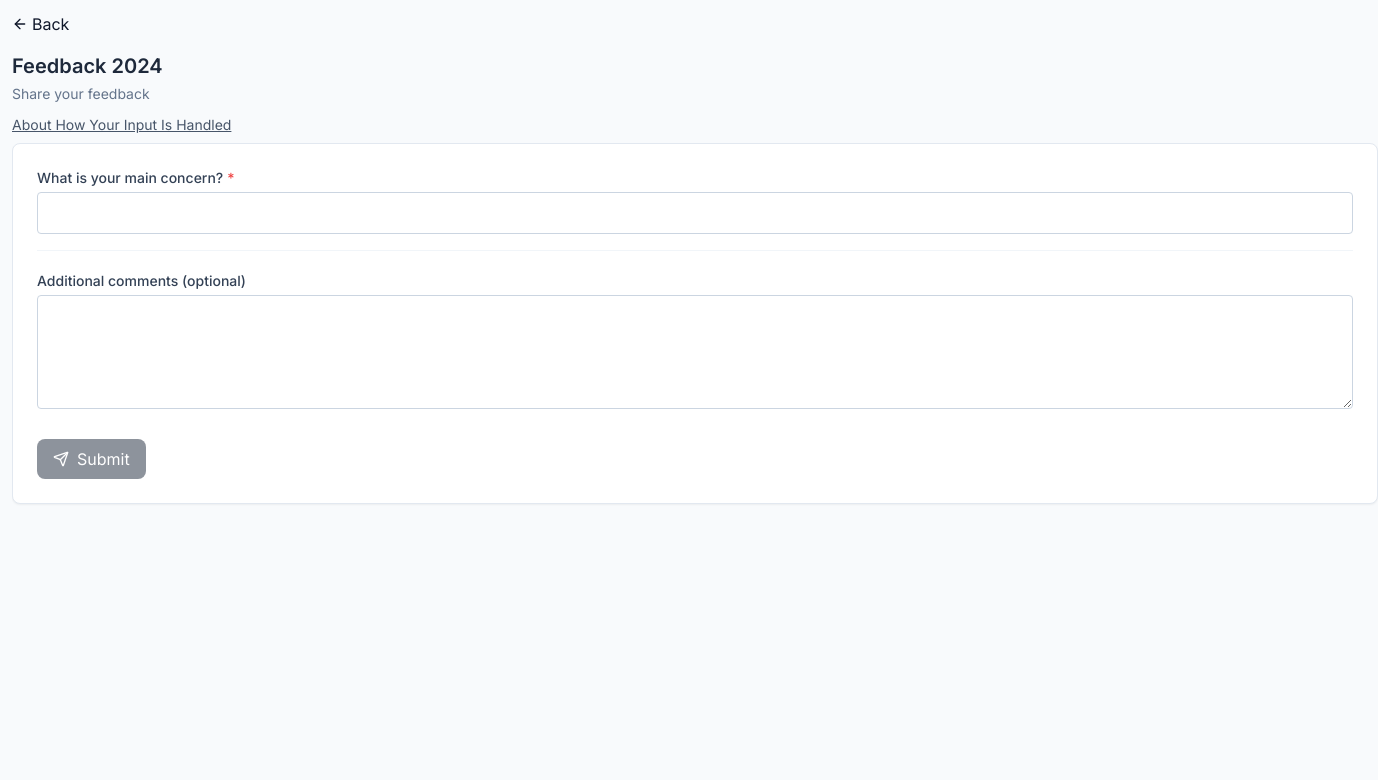
Test: SurveyPost › API mocking › shows error message when submit fails
The width and height of the screenshot is (1378, 780).
Type "Answer" into the field labelled "What is your main concern?*". click: coordinates (695, 213)
box: [37,192,1353,234]
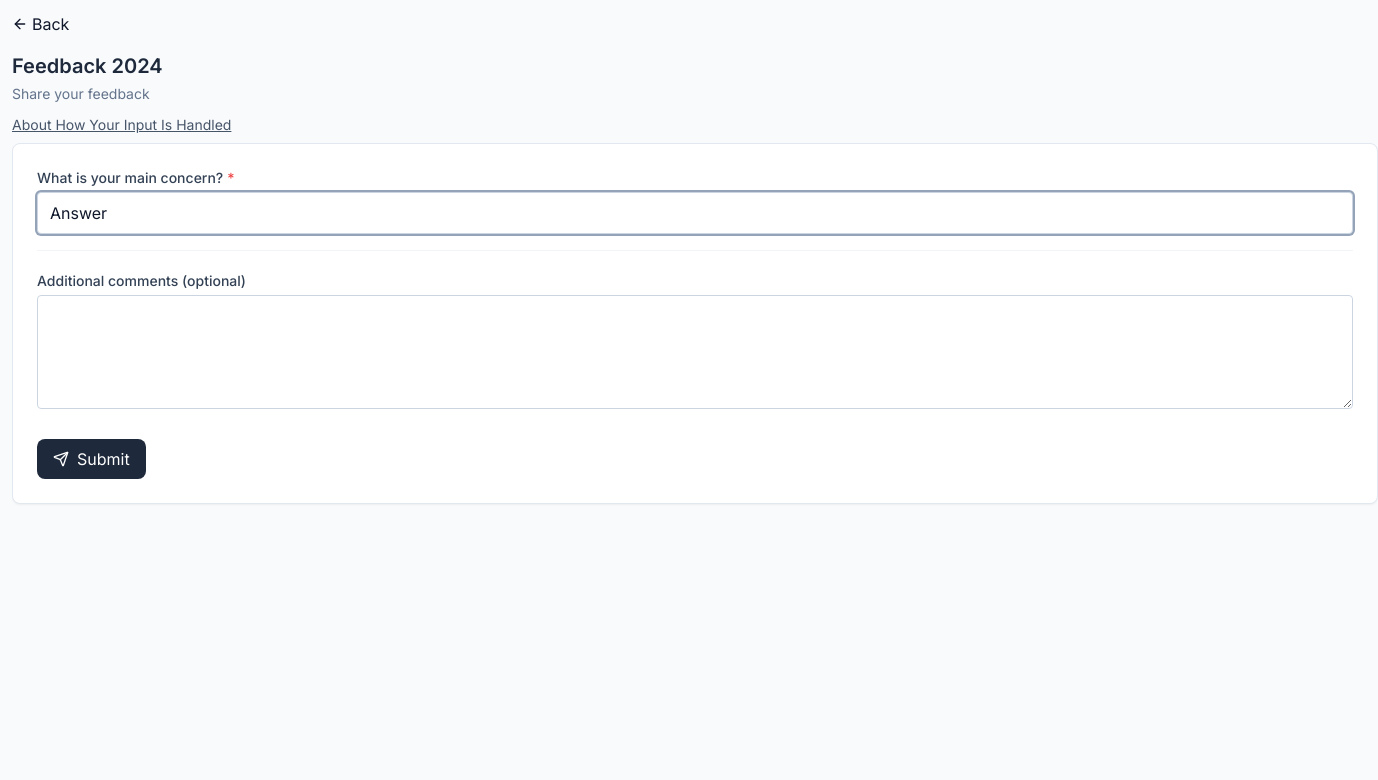
Click the button "Submit". click: coordinates (91, 459)
box: [37,439,146,479]
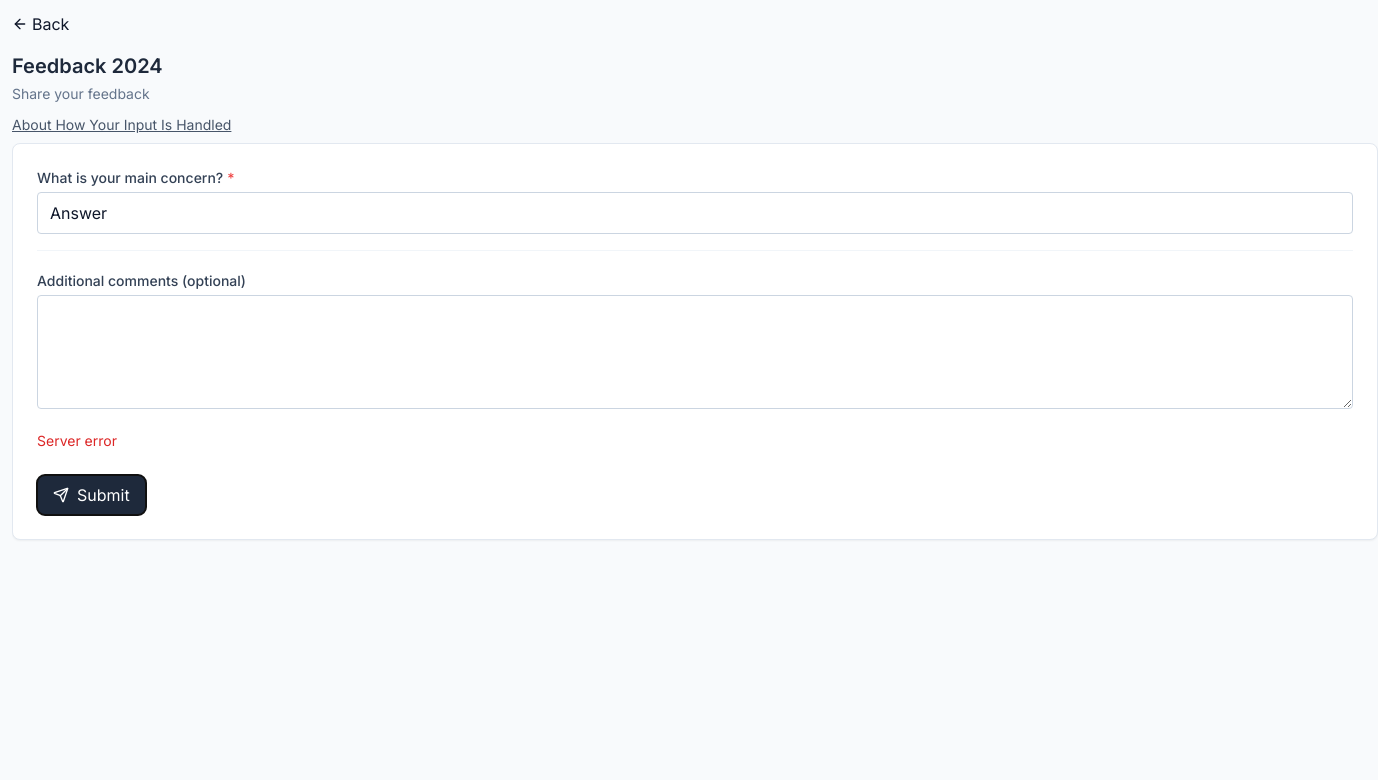
Expected: the text "Server error" is shown, [37,432,117,449]
